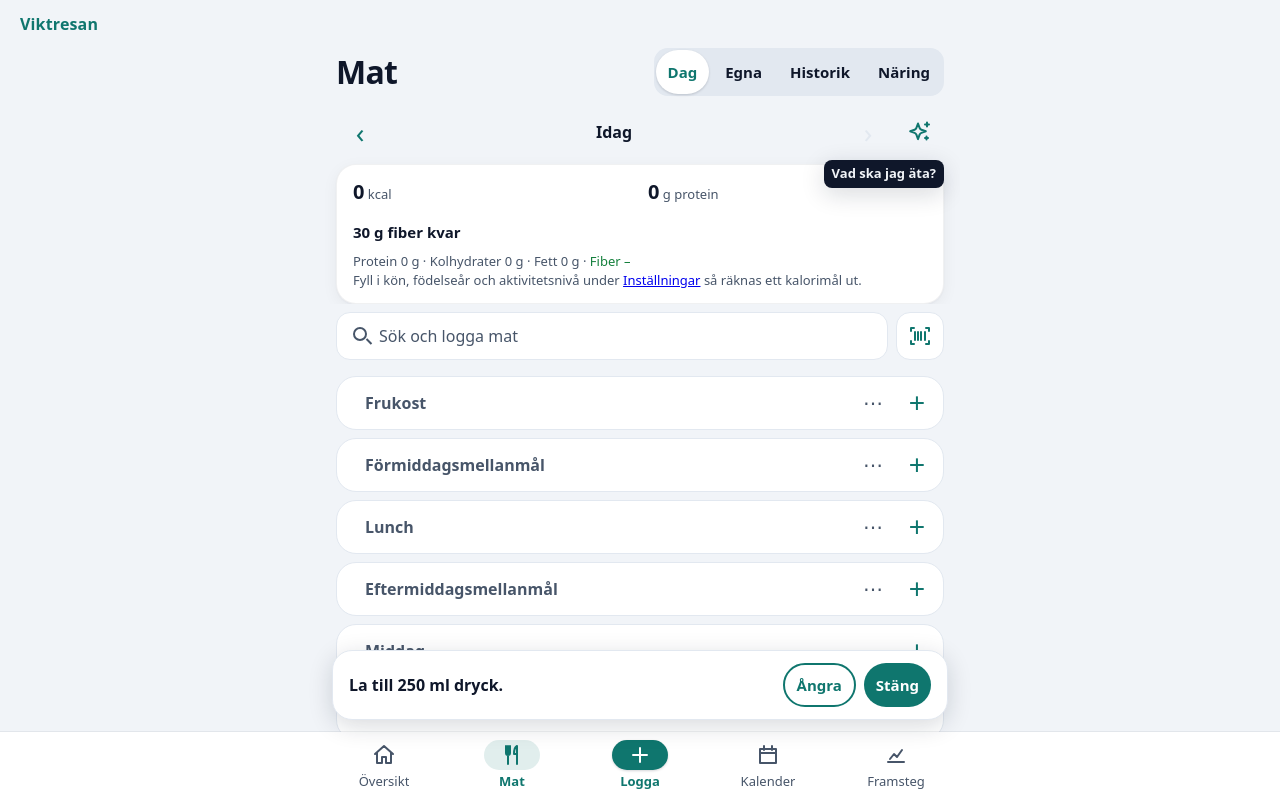
Scenario: genvägar på appikonen › ?action=add-water loggar 250 ml direkt och kan ångras
Expected: the element with test id "shortcut-toast" shows "La till 250 ml dryck.", left=349, top=674, right=503, bottom=696
Click the button "Ångra" at (819, 685), box left=782, top=663, right=856, bottom=707
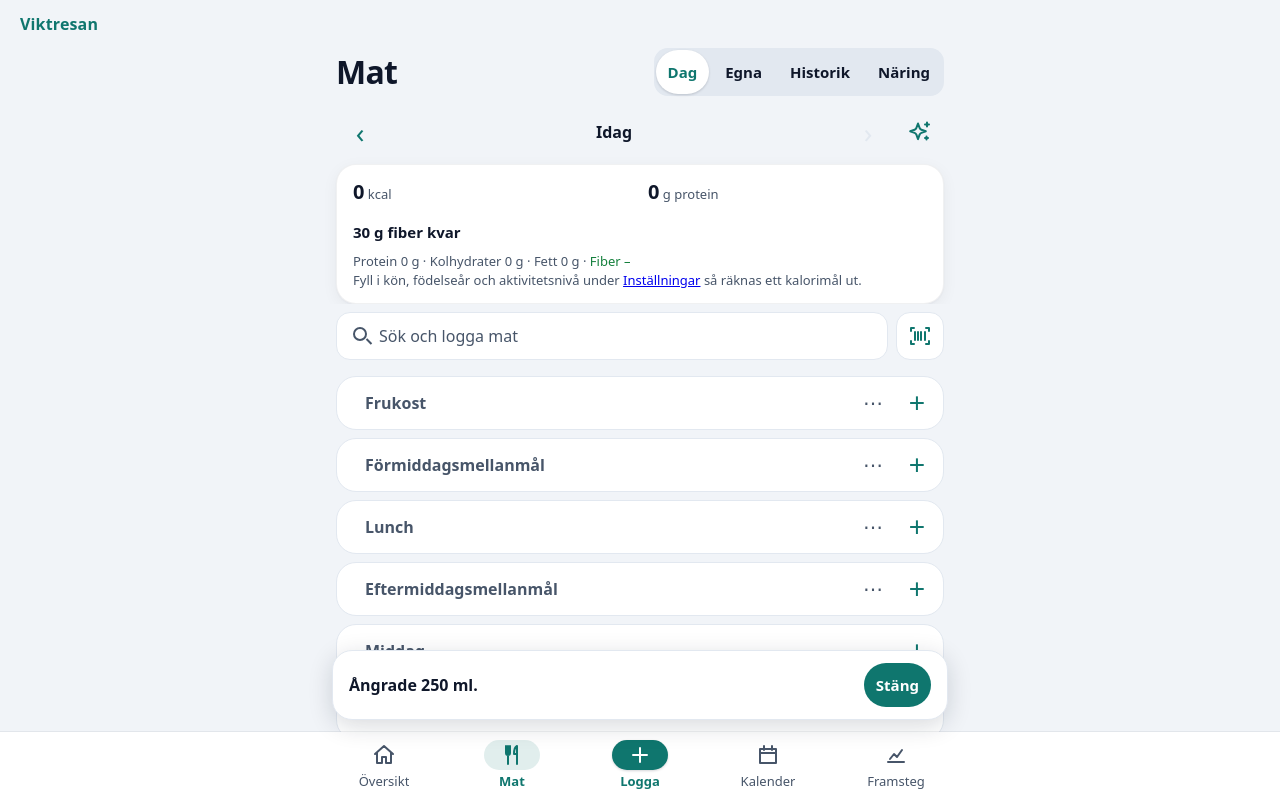
Now the text "Ångrade 250 ml." is shown, box left=349, top=673, right=478, bottom=697
